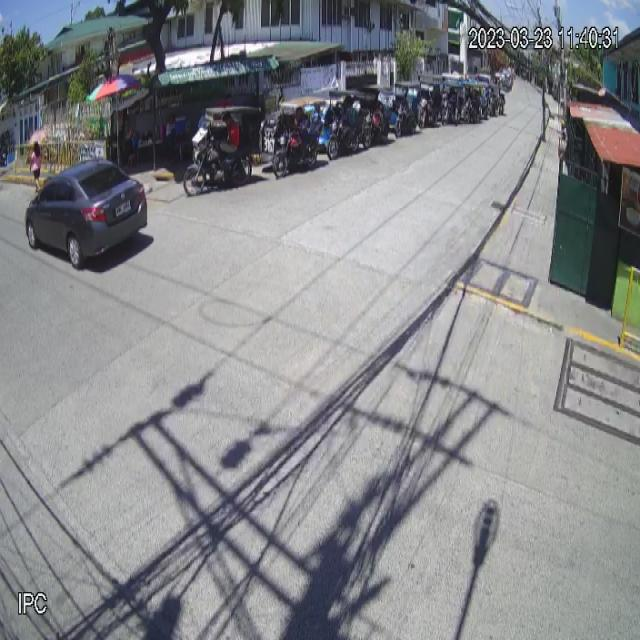Car: (25, 158, 147, 271)
